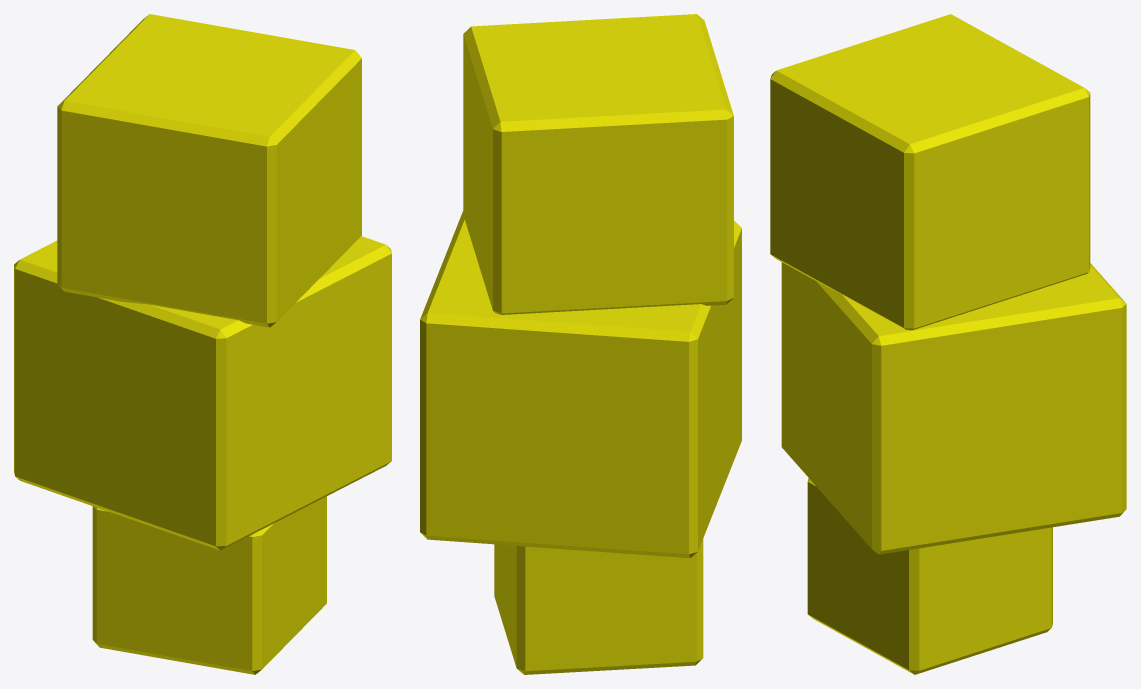
Rendered from obj_SmartBox.glb.
The picture shows the model from 3 angles, left to right: view 1: azimuth 30°, elevation 25°; view 2: azimuth 150°, elevation 25°; view 3: azimuth 270°, elevation 25°; orthographic projection. The views are drawn at different scales.
Parts seen in each view (by area): view 1: obj_Smart_Boxes; view 2: obj_Smart_Boxes; view 3: obj_Smart_Boxes.
Boxes of the visible parts, x1=… form: obj_Smart_Boxes: x1=14, y1=14, x2=391, y2=674; obj_Smart_Boxes: x1=420, y1=14, x2=741, y2=674; obj_Smart_Boxes: x1=770, y1=14, x2=1126, y2=674.
Size of the model in its own units: 0.6983 by 1.22 by 0.7214.
